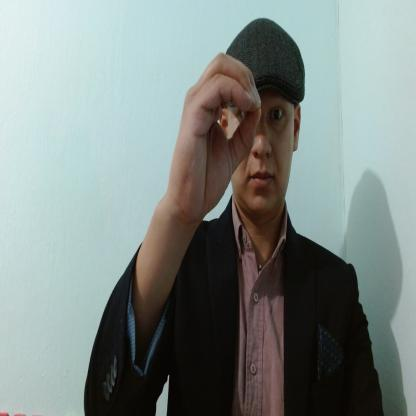O: (166, 50, 263, 224)
